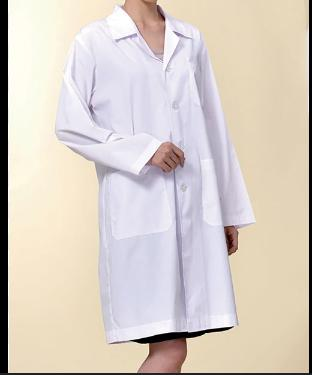lab_coat: (52, 3, 255, 347)
